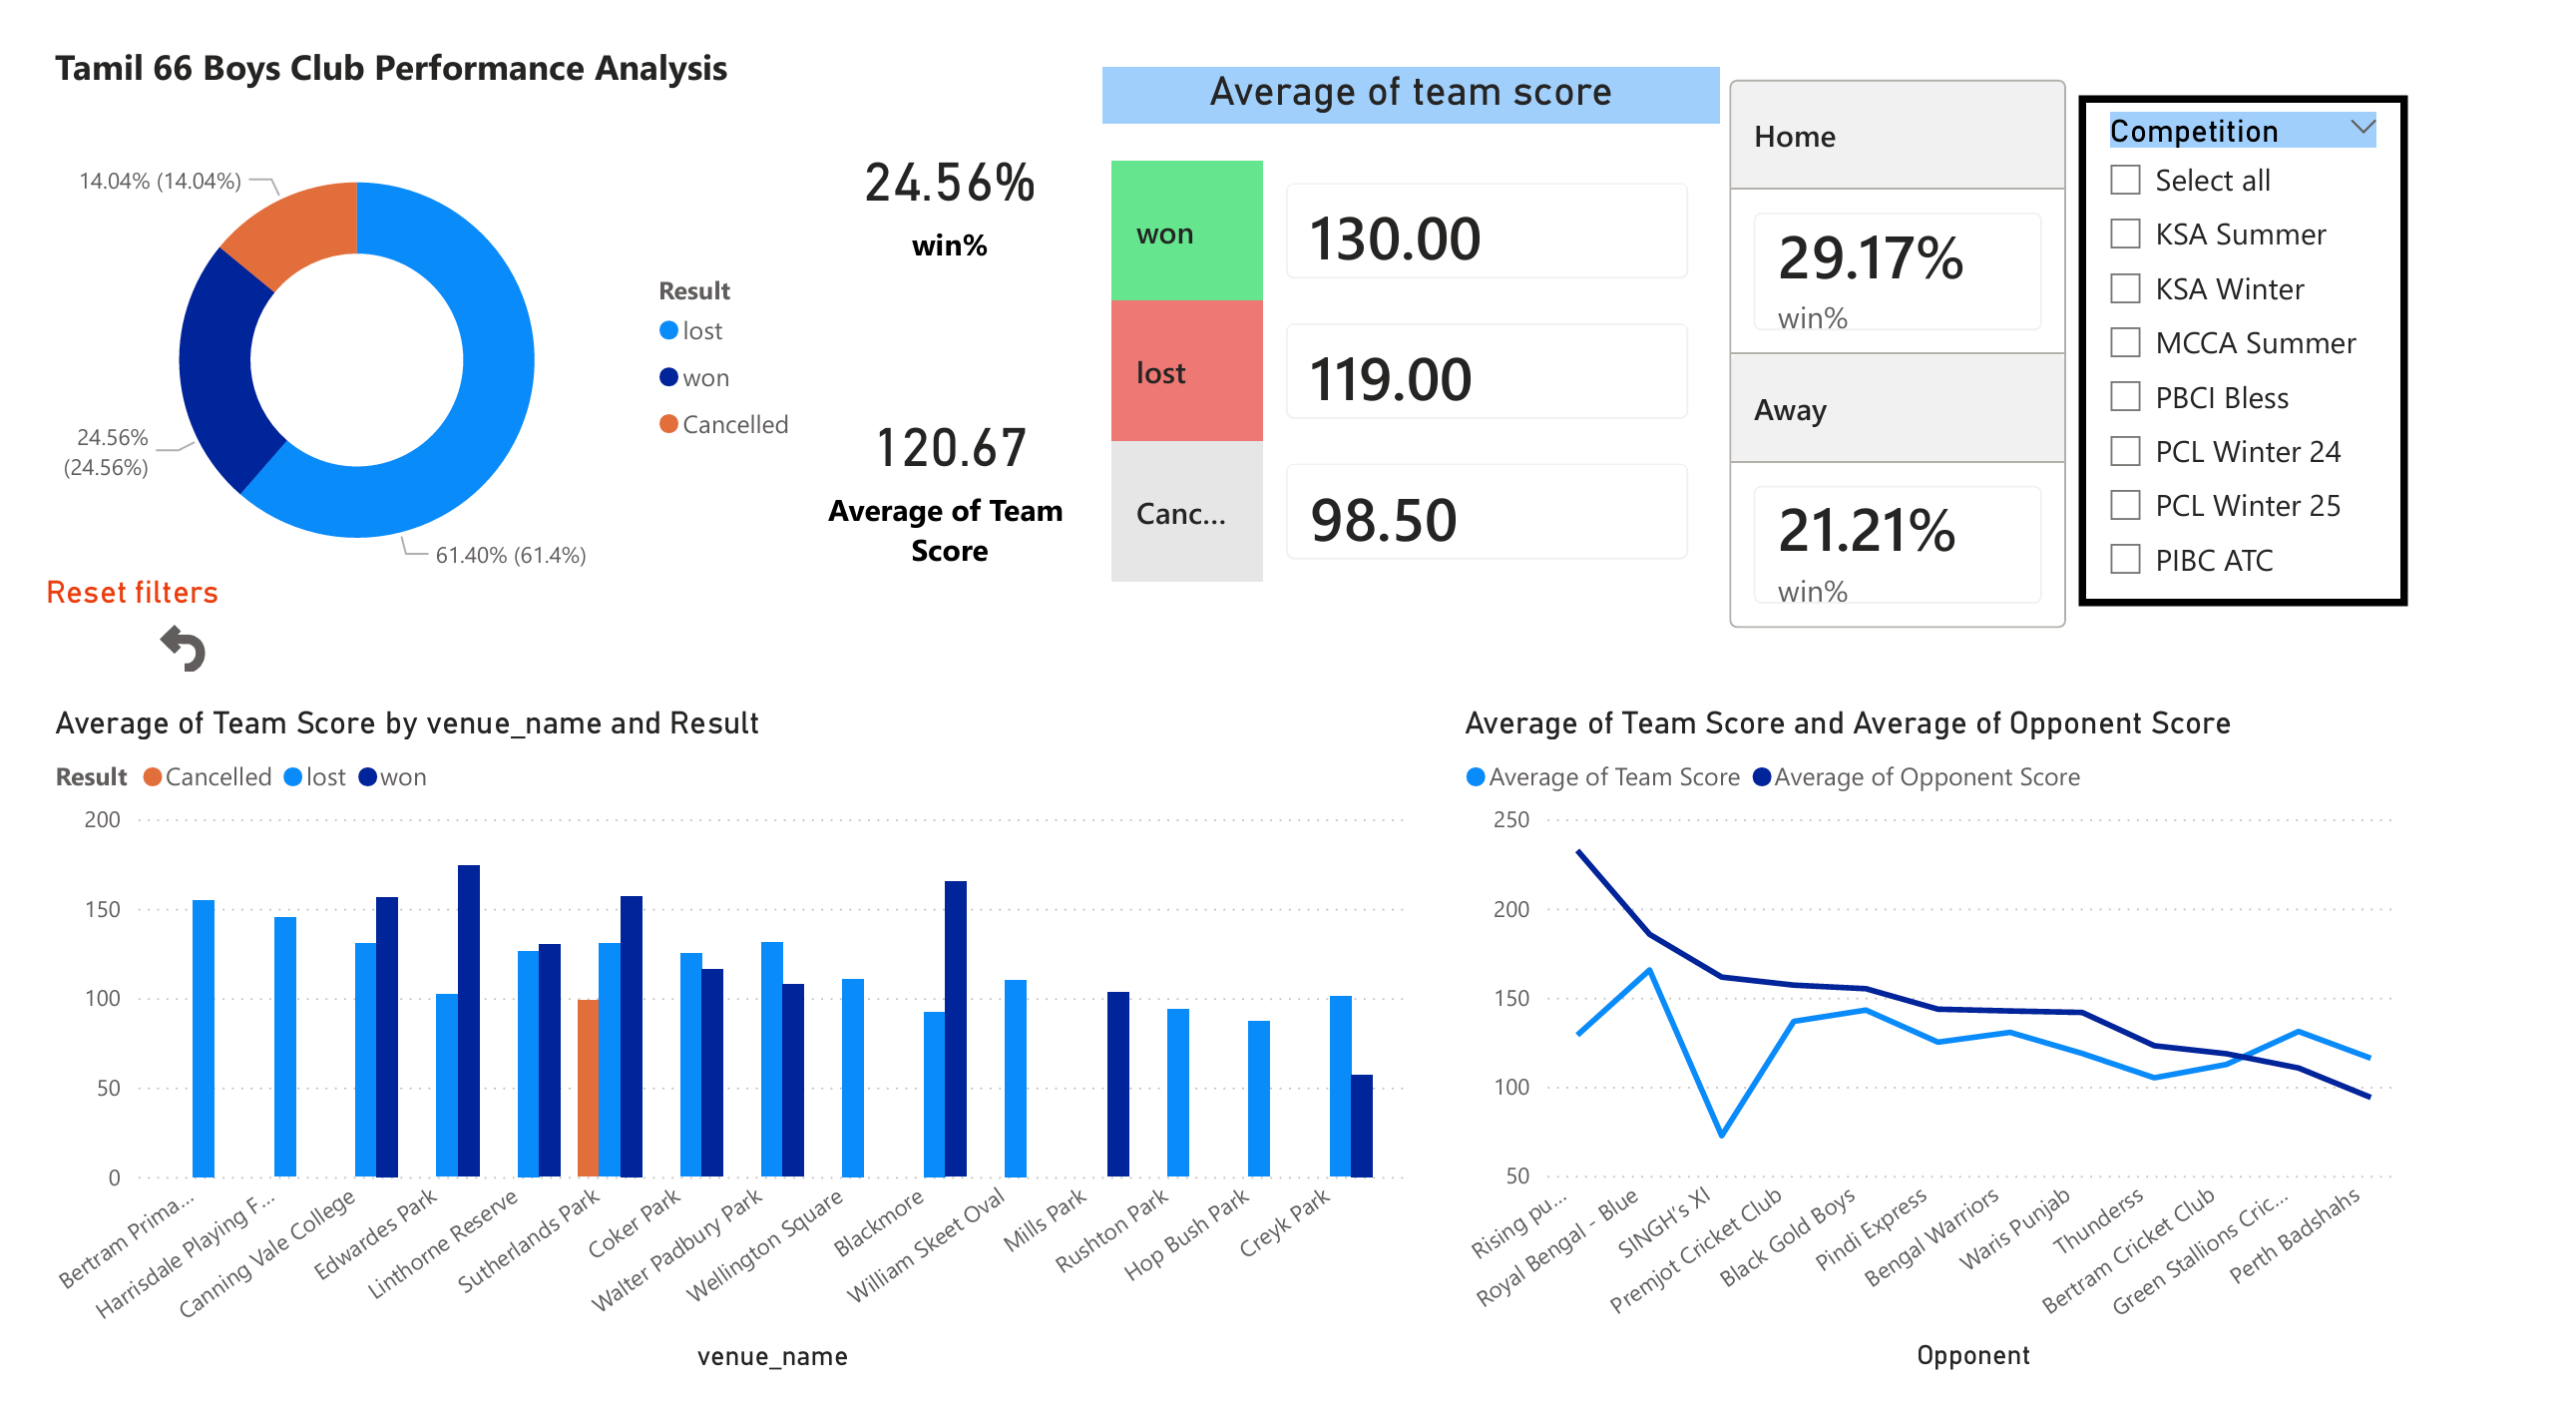

Layout of this report page (visuals, bound fields, positions):
{"tool":"powerbi","page":{"name":"Page 1","canvas":[1280,720],"ordinal":0},"visuals":[{"type":"lineChart","title":"Average of Team Score and Average of Opponent Score","fields":{"Category":["Final_table.Opponent"],"Y":["Avg(Final_table.Team Score)","Avg(Final_table.Opponent Score)"]},"box":[753.3,358.3,509.9,361.3],"z":0},{"type":"cardVisual","fields":{"Data":["Final_table.win%"],"Rows":["Final_table.Team Side"]},"box":[895.7,0,190.6,343],"z":1000},{"type":"card","fields":{"Values":["Final_table.win%"]},"box":[412.5,13.6,143.2,150],"z":2000},{"type":"slicer","fields":{"Values":["Final_table.Competition"]},"box":[1086.3,33.3,176.3,273.2],"z":3000},{"type":"card","fields":{"Values":["Avg(Final_table.Team Score)"]},"box":[412.5,150,143.2,160.2],"z":4000},{"type":"cardVisual","title":"Average of team score","fields":{"Data":["Avg(Final_table.Team Score)"],"Rows":["Final_table.Result"]},"box":[565.4,19.1,330.3,300.1],"z":5000},{"type":"clusteredColumnChart","fields":{"Category":["Final_table.venue_name"],"Y":["Avg(Final_table.Team Score)"],"Series":["Final_table.Result"]},"box":[0,358.6,732.1,361.9],"z":6000},{"type":"donutChart","fields":{"Category":["Final_table.Result"],"Y":["CountNonNull(Final_table.Result)"]},"box":[0,32.4,412.5,286.3],"z":7000},{"type":"textbox","box":[0,0,412.5,51.1],"z":8000},{"type":"actionButton","title":"Reset filters","box":[0,288.9,147.8,54.8],"z":9000}]}

Visuals, with their boxes in screenshot pixels (x1, y1, x2, y2), scaled from the page's 1280x720 canvas onto the 2576x1410 screenshot:
"Average of Team Score and Average of Opponent Score" lineChart: 1516 702 2542 1409
cardVisual - Final_table.win% x Final_table.Team Side: 1803 0 2186 672
card - Final_table.win%: 830 27 1118 320
slicer - Final_table.Competition: 2186 65 2541 601
card - Avg(Final_table.Team Score): 830 293 1118 608
"Average of team score" cardVisual: 1138 37 1803 625
clusteredColumnChart - Final_table.venue_name x Avg(Final_table.Team Score): 0 703 1474 1409
donutChart - Final_table.Result x CountNonNull(Final_table.Result): 0 64 830 624
textbox: 0 0 830 100
"Reset filters" actionButton: 0 566 297 674
